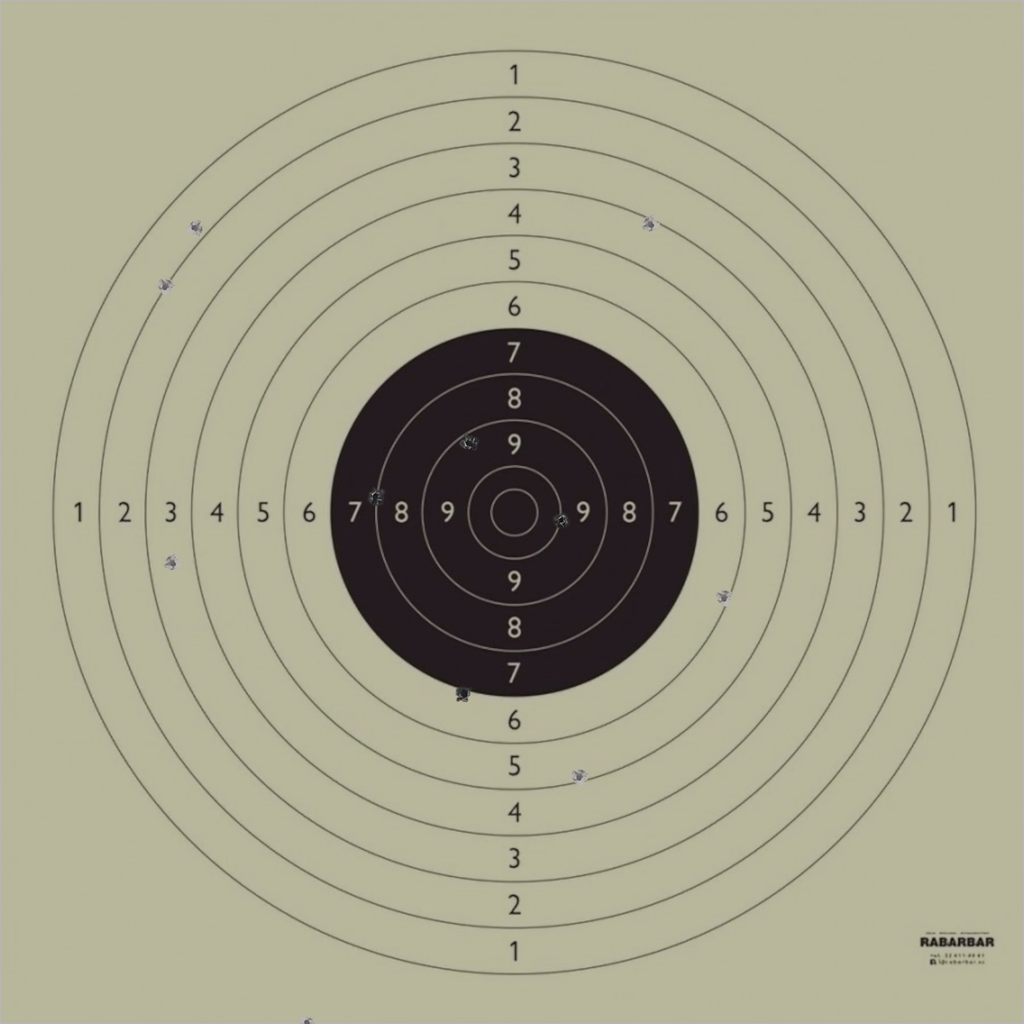0 punktow: (298, 1014, 316, 1024)
1 punkt: (186, 219, 204, 237)
10 punktow: (552, 511, 571, 529)
2 punkty: (156, 277, 174, 296)
3 punkty: (163, 554, 182, 573)
4 punkty: (641, 215, 660, 234)
5 punktow: (570, 768, 588, 786)
6 punktow: (715, 589, 733, 607)
7 punktow: (455, 685, 473, 703)
8 punktow: (367, 487, 385, 506)
9 punktow: (460, 434, 479, 452)
